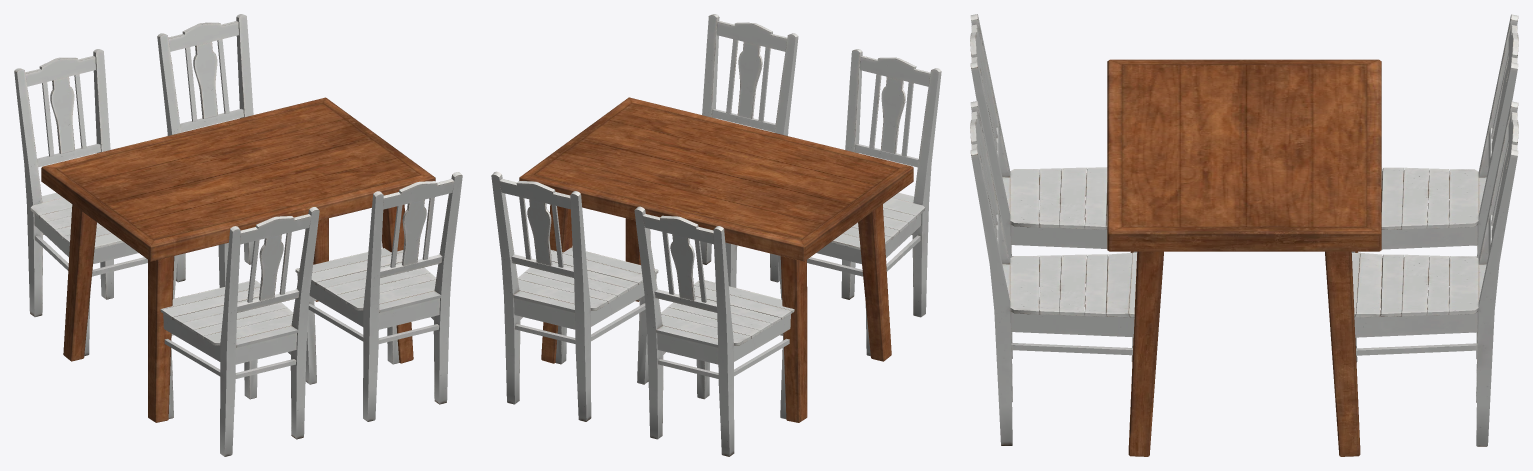
Rendered from dining-set-4.glb.
The picture shows the model from 3 angles, left to right: view 1: azimuth 30°, elevation 25°; view 2: azimuth 150°, elevation 25°; view 3: azimuth 270°, elevation 25°; orthographic projection. The views are drawn at different scales.
Parts seen in each view (by area): view 1: painted_wooden_chair_01 (×4), wooden_table_02; view 2: painted_wooden_chair_01 (×4), wooden_table_02; view 3: wooden_table_02, painted_wooden_chair_01 (×4).
Boxes of the visible parts, x1,y1,x2,y2 form: painted_wooden_chair_01 (×4): [14, 14, 462, 456]; wooden_table_02: [41, 97, 435, 422]; painted_wooden_chair_01 (×4): [491, 14, 941, 456]; wooden_table_02: [519, 97, 913, 422]; wooden_table_02: [1107, 59, 1381, 456]; painted_wooden_chair_01 (×4): [970, 14, 1518, 446].
Size of the model in its own units: 1.2 by 0.955 by 1.6.
Materials: 2 (2 with a texture image).
